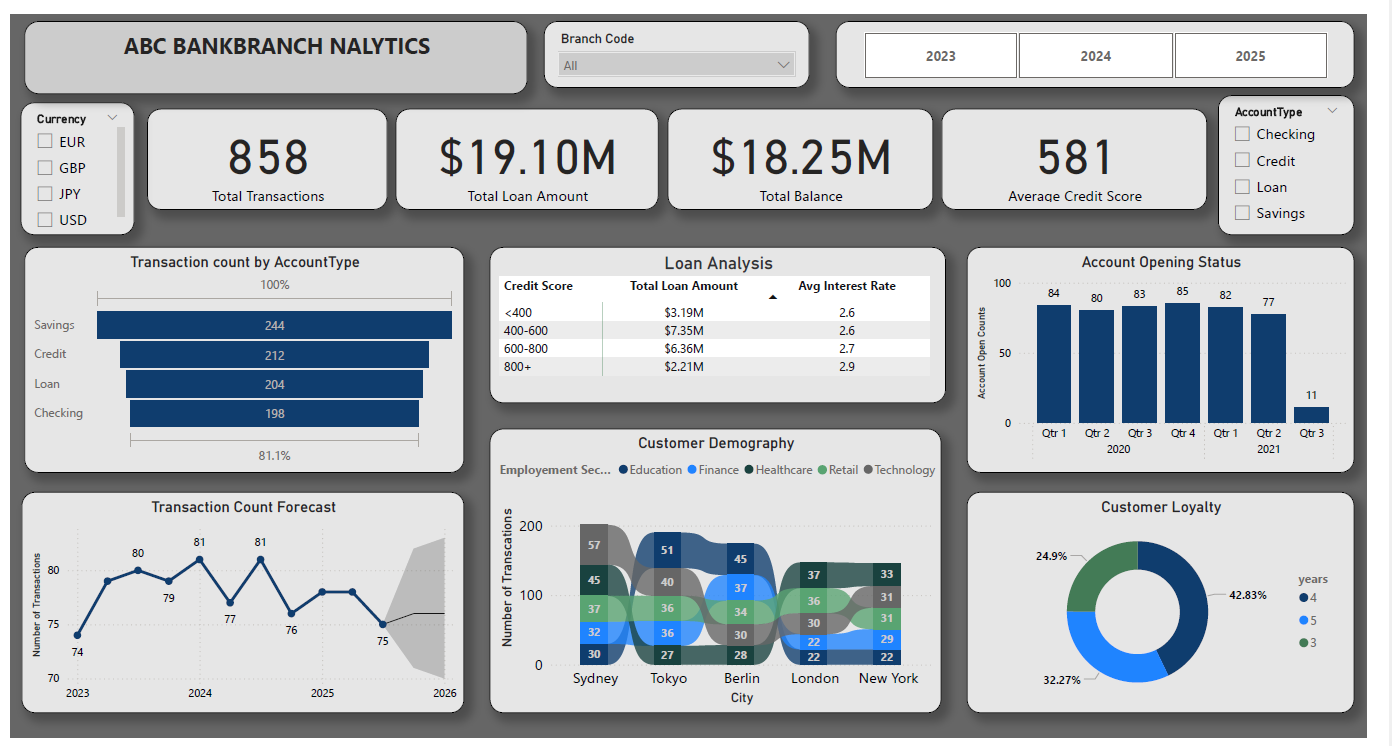

The dashboard page shown, as its layout file describes it:
{"tool":"powerbi","page":{"name":"DASHBOARD","canvas":[1500,800],"ordinal":18},"visuals":[{"type":"card","fields":{"Values":["Count(All Customer Transction.TransactionID)"]},"box":[151.4,104.3,265.7,111.4],"z":0},{"type":"card","fields":{"Values":["Sum(All Customer Transction.Loan Amount(USD))"]},"box":[425.7,104.3,291.4,111.4],"z":1000},{"type":"card","fields":{"Values":["Sum(All Customer Transction.Balance(USD))"]},"box":[727.1,104.3,294.3,111.4],"z":2000},{"type":"card","fields":{"Values":["Avg(All Customer Transction.CreditScore)"]},"box":[1030,104.3,294.3,111.4],"z":3000},{"type":"slicer","fields":{"Values":["All Customer Transction.AccountType"]},"box":[1335.7,88.6,151.4,155.7],"z":4000},{"type":"slicer","fields":{"Values":["All Customer Transction.Currency"]},"box":[11.4,97.1,125.7,147.1],"z":5000},{"type":"slicer","fields":{"Values":["All Customer Transction.BranchCode"]},"box":[590,7.1,294.3,74.3],"z":6000},{"type":"slicer","fields":{"Values":["All Customer Transction.TransactionDate.Variation.Date Hierarchy.Year"]},"box":[912.9,7.1,574.3,74.3],"z":7000},{"type":"lineChart","title":"Transaction Count Forecast","fields":{"Category":["All Customer Transction.TransactionDate.Variation.Date Hierarchy.Year","All Customer Transction.TransactionDate.Variation.Date Hierarchy.Quarter"],"Y":["CountNonNull(All Customer Transction.TransactionID)"]},"box":[11.7,528.3,490,245],"z":8000},{"type":"textbox","box":[15,6.7,556.7,81.7],"z":9000},{"type":"pivotTable","title":"Loan Analysis","fields":{"Rows":["All Customer Transction.Credit Score Range"],"Values":["Sum(All Customer Transction.Loan Amount(USD))","Avg(All Customer Transction.InterestRate)"]},"box":[530,256.7,505,173.3],"z":10000},{"type":"clusteredColumnChart","title":"Account Opening Status","fields":{"Category":["All Customer Transction.OpeningDate.Variation.Date Hierarchy.Year","All Customer Transction.OpeningDate.Variation.Date Hierarchy.Quarter"],"Y":["Count(All Customer Transction.AccountNumber)"]},"box":[1058.3,256.7,428.3,250],"z":11000},{"type":"ribbonChart","title":"Customer Demography","fields":{"Category":["All Customer Transction.City"],"Y":["CountNonNull(All Customer Transction.TransactionID)"],"Series":["All Customer Transction.Employement Sector"]},"box":[530,458.3,500,315],"z":12000},{"type":"funnel","title":"Transaction count by AccountType","fields":{"Category":["All Customer Transction.AccountType"],"Y":["CountNonNull(All Customer Transction.TransactionID)"]},"box":[15,256.7,486.7,250],"z":13000},{"type":"donutChart","title":"Customer Loyalty","fields":{"Y":["Count(All Customer Transction.AccountNumber)"],"Category":["All Customer Transction.Customer(year)"]},"box":[1058.3,528.3,428.3,245],"z":14000}]}

Visuals, with their boxes in screenshot pixels (x1, y1, x2, y2), scaled from the page's 1500x800 canvas onto the 1392x746 screenshot:
card - Count(All Customer Transction.TransactionID): box(140, 97, 387, 201)
card - Sum(All Customer Transction.Loan Amount(USD)): box(395, 97, 665, 201)
card - Sum(All Customer Transction.Balance(USD)): box(675, 97, 948, 201)
card - Avg(All Customer Transction.CreditScore): box(956, 97, 1229, 201)
slicer - All Customer Transction.AccountType: box(1240, 83, 1380, 228)
slicer - All Customer Transction.Currency: box(11, 91, 127, 228)
slicer - All Customer Transction.BranchCode: box(548, 7, 821, 76)
slicer - All Customer Transction.TransactionDate.Variation.Date Hierarchy.Year: box(847, 7, 1380, 76)
"Transaction Count Forecast" lineChart: box(11, 493, 466, 721)
textbox: box(14, 6, 531, 82)
"Loan Analysis" pivotTable: box(492, 239, 960, 401)
"Account Opening Status" clusteredColumnChart: box(982, 239, 1380, 472)
"Customer Demography" ribbonChart: box(492, 427, 956, 721)
"Transaction count by AccountType" funnel: box(14, 239, 466, 472)
"Customer Loyalty" donutChart: box(982, 493, 1380, 721)
